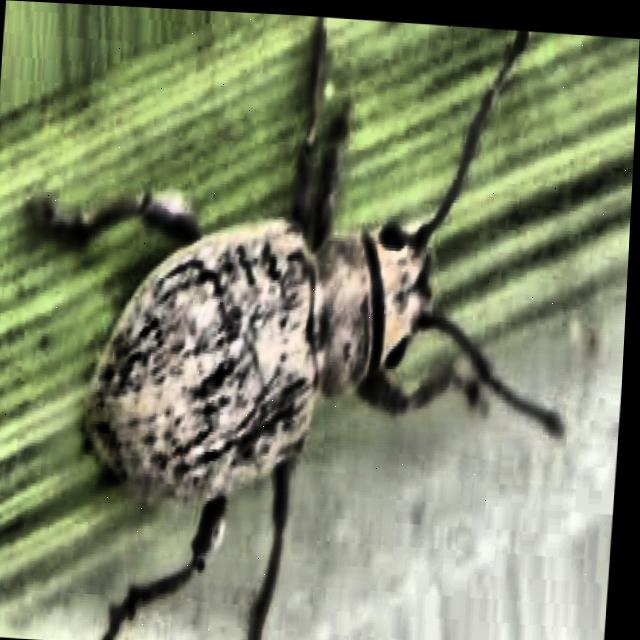Stink bug: (25, 96, 521, 568)
